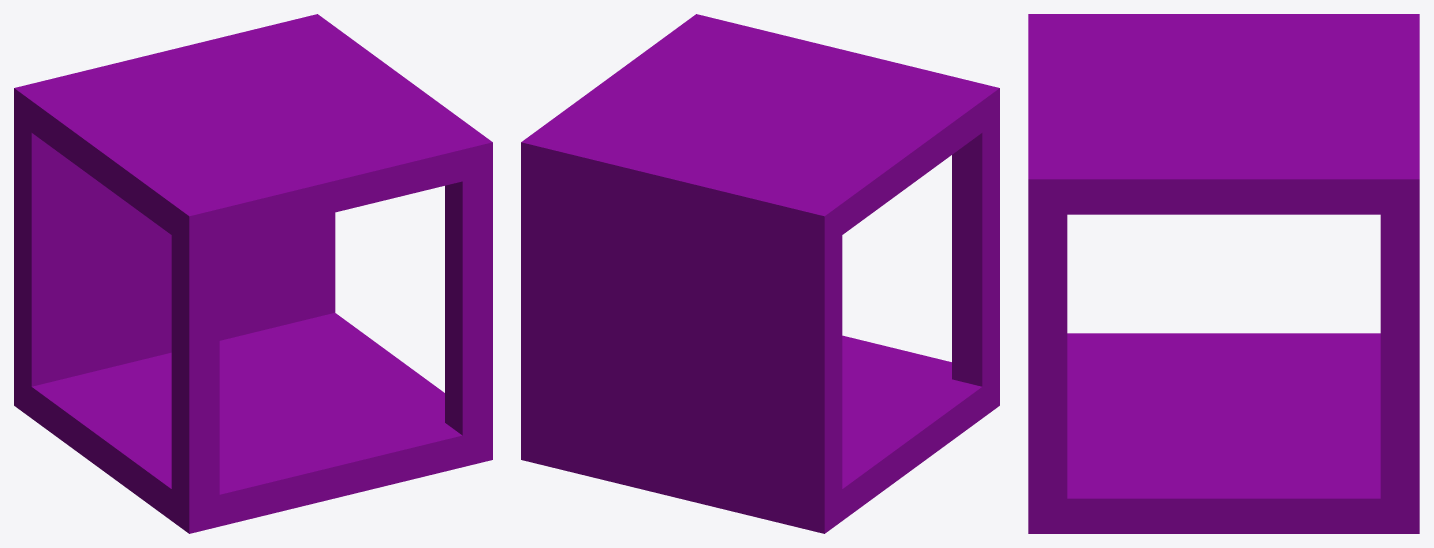
The model's file is flythroughs.001-T.glb.
3 views of the same model, side by side, from view 1: azimuth 30°, elevation 25°; view 2: azimuth 150°, elevation 25°; view 3: azimuth 270°, elevation 25° (orthographic). The views are drawn at different scales.
Visible parts, largest first — view 1: Cube-T; view 2: Cube-T; view 3: Cube-T.
Part boxes in pixels (x1,y1,x2,y2): Cube-T: [14, 14, 492, 533]; Cube-T: [521, 14, 999, 533]; Cube-T: [1028, 14, 1419, 533].
Bounding box in the file's own units: 2 × 2 × 2.
1 material, 1 textured.
